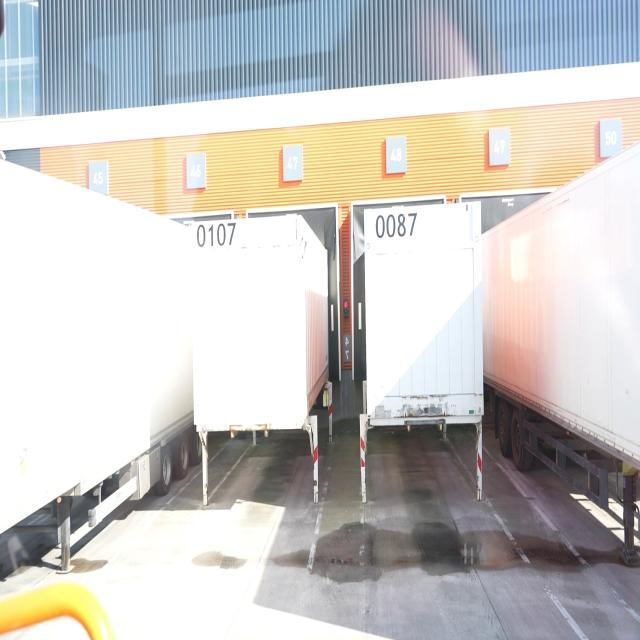Code: (194, 217, 238, 252), (373, 208, 419, 241)
